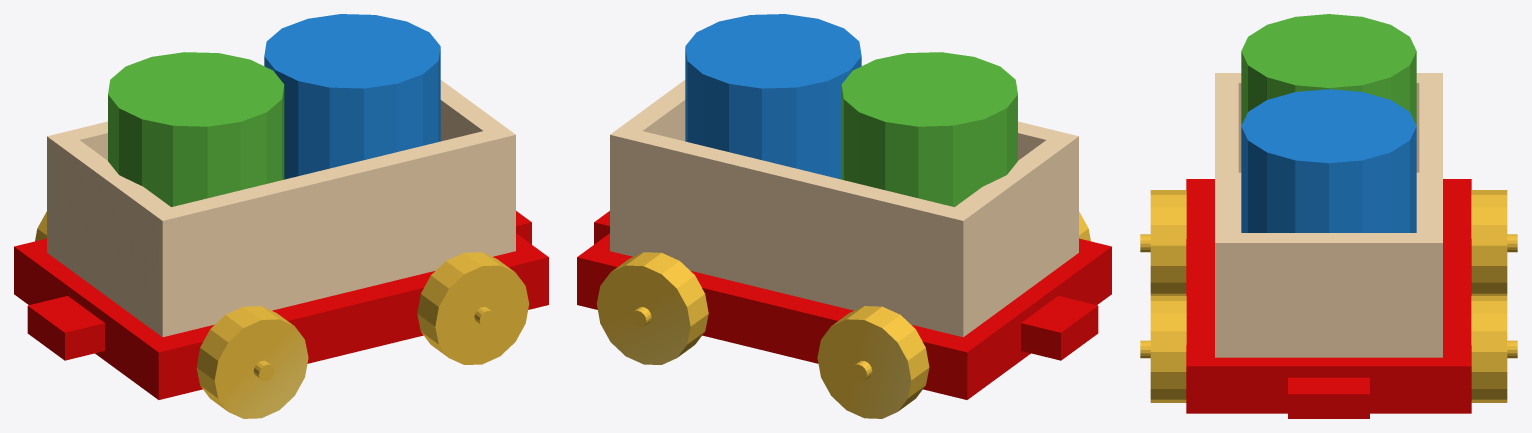
Rendered from Prop_ToyTrain_02.fbx.
The picture shows the model from 3 angles, left to right: view 1: azimuth 30°, elevation 25°; view 2: azimuth 150°, elevation 25°; view 3: azimuth 270°, elevation 25°; orthographic projection.
Visible parts, largest first — view 1: Prop_ToyTrain_02; view 2: Prop_ToyTrain_02; view 3: Prop_ToyTrain_02.
Boxes of the visible parts, x1,y1,x2,y2 form: Prop_ToyTrain_02: (14,14,548,418); Prop_ToyTrain_02: (577,14,1111,418); Prop_ToyTrain_02: (1140,14,1517,418).
Bounding box in the file's own units: 37.61 × 19.83 × 26.82.
